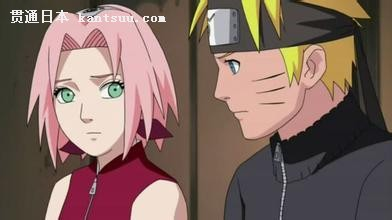naruto: (206, 2, 328, 141)
sakura: (46, 6, 144, 158)
